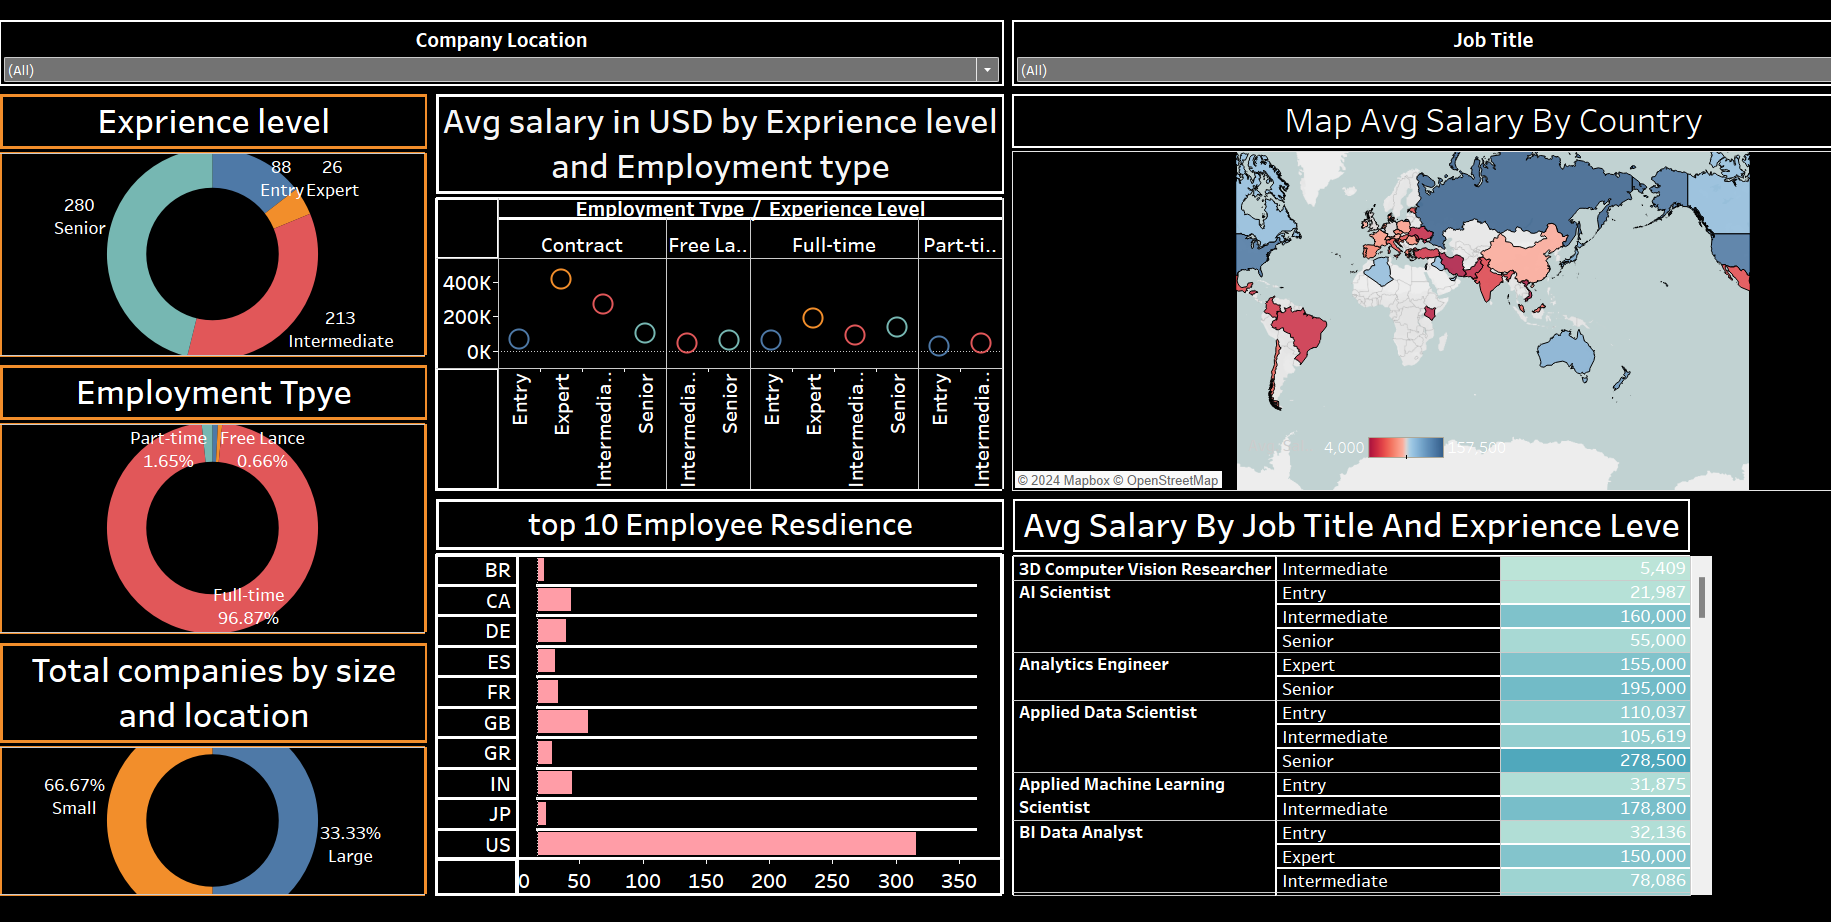

Layout of this report page (visuals, bound fields, positions):
{"tool":"tableau","page":{"name":"Dashboard 1","canvas":[2200,1200],"ordinal":0},"visuals":[{"type":"filter","title":"Avg salary in USD by Exprience level and Employment type","param":"[federated.0ccfe7p0gojj9611na7ha0xbapqg].[none:company_location:nk]","box":[8,8,1115.4,77]},{"type":"filter","title":"Avg salary in USD by Exprience level and Employment type","param":"[federated.0ccfe7p0gojj9611na7ha0xbapqg].[none:job_title:nk]","box":[1123.4,8,1068.6,99.6]},{"type":"worksheet","title":"Exprience level","mark":"Pie","rows":["Calculation_716353861897011201","Calculation_716353861897011201"],"box":[8,107.7,479.8,362.7]},{"type":"worksheet","title":"Avg salary in USD by Exprience level and Employment type","mark":"Shape","rows":["salary_in_usd"],"cols":["employment_type","experience_level"],"box":[487.8,107.7,635,542.1]},{"type":"worksheet","title":"Map Avg Salary By Country","mark":"Automatic","box":[1122.8,107.7,1069.2,542.1]},{"type":"worksheet","title":"Employment Tpye","mark":"Pie","rows":["Calculation_716353861897011201","Calculation_716353861897011201"],"box":[8,470.3,479.8,371.6]},{"type":"legend","title":"Map Avg Salary By Country","param":"[federated.0ccfe7p0gojj9611na7ha0xbapqg].[avg:salary_in_usd:qk]","box":[1387,567,289,54]},{"type":"worksheet","title":"top 10 Employee Resdience","mark":"Automatic","rows":["employee_residence"],"cols":["employee_residence"],"box":[487.8,649.8,635,542.2]},{"type":"worksheet","title":"Avg Salary By Job Title And Exprience Leve","mark":"Square","rows":["job_title","experience_level"],"box":[1122.8,649.8,1069.2,542.2]},{"type":"worksheet","title":"Total companies by size and location","mark":"Pie","rows":["Calculation_716353861897011201","Calculation_716353861897011201"],"box":[8,841.9,479.8,350.1]}]}

Visuals, with their boxes in screenshot pixels (x1, y1, x2, y2):
"Avg salary in USD by Exprience level and Employment type" filter: bbox(187, 20, 1001, 76)
"Avg salary in USD by Exprience level and Employment type" filter: bbox(1001, 20, 1780, 93)
"Exprience level" worksheet (Pie marks): bbox(187, 93, 537, 357)
"Avg salary in USD by Exprience level and Employment type" worksheet (Shape marks): bbox(537, 93, 1000, 488)
"Map Avg Salary By Country" worksheet: bbox(1000, 93, 1780, 488)
"Employment Tpye" worksheet (Pie marks): bbox(187, 357, 537, 628)
"Map Avg Salary By Country" legend: bbox(1193, 428, 1404, 467)
"top 10 Employee Resdience" worksheet: bbox(537, 488, 1000, 884)
"Avg Salary By Job Title And Exprience Leve" worksheet (Square marks): bbox(1000, 488, 1780, 884)
"Total companies by size and location" worksheet (Pie marks): bbox(187, 628, 537, 884)
